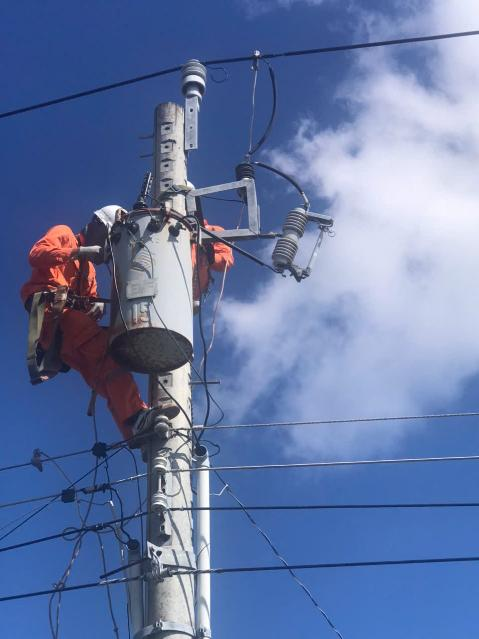gloves: (73, 238, 111, 271)
harness: (10, 278, 100, 321)
helmet: (86, 196, 150, 257)
shoes: (112, 400, 203, 450)
